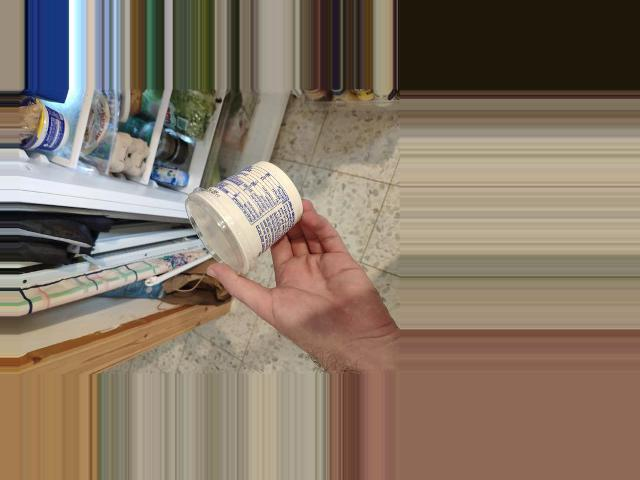cotage: (192, 172, 306, 283)
